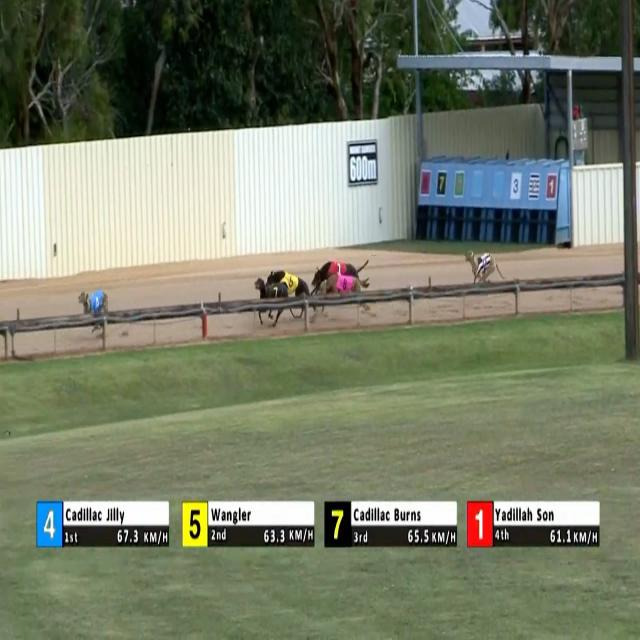dog_eight: (337, 274, 356, 294)
dog_five: (284, 272, 300, 294)
dog_four: (87, 287, 109, 320)
dog_one: (332, 256, 350, 280)
dog_seven: (269, 282, 285, 304)
dog_two: (478, 254, 494, 278)
rail: (0, 271, 640, 337)
